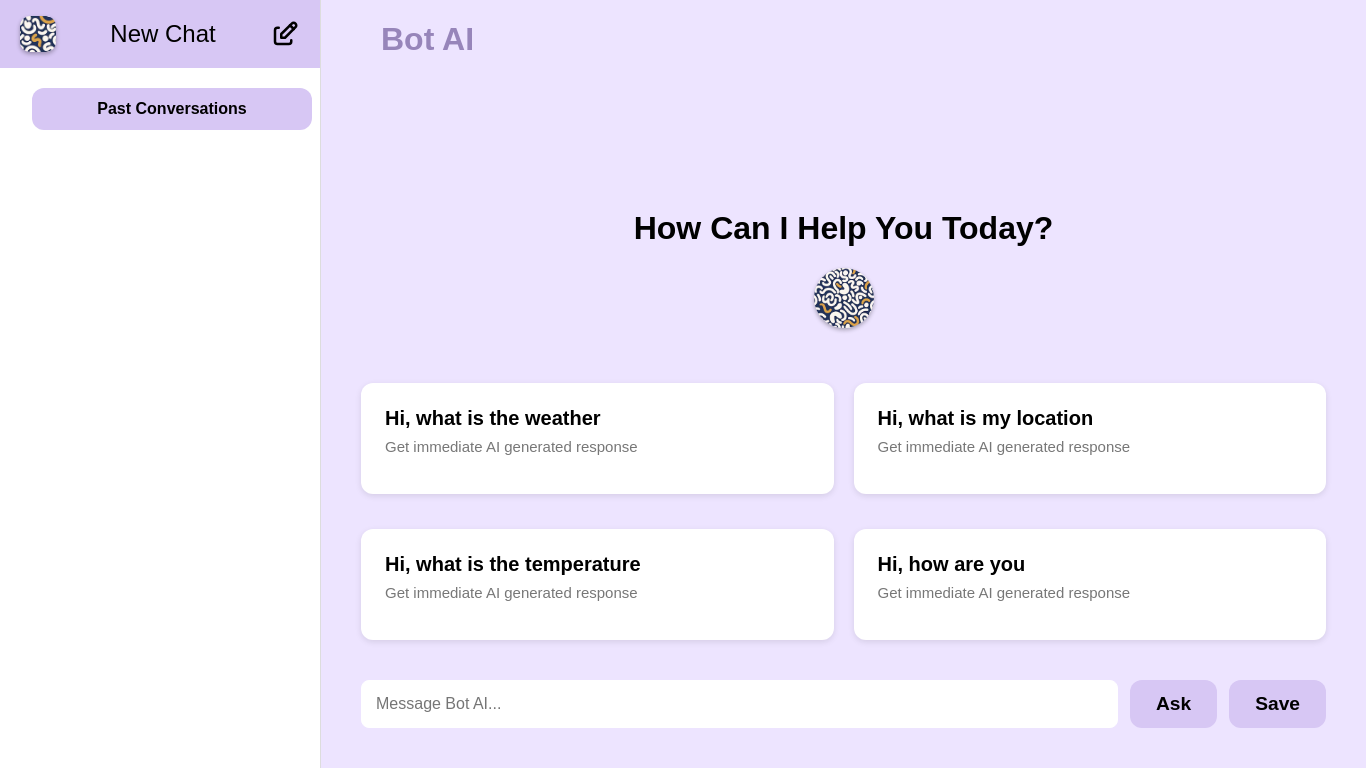
Bot AI Application › Should show a default message if the question is not present in the static JSON data
This screenshot has width=1366, height=768.
Type "What is the capital of Mars?" into the field with placeholder "Message Bot AI...". click: (740, 704)
box: [361,680,1118,728]
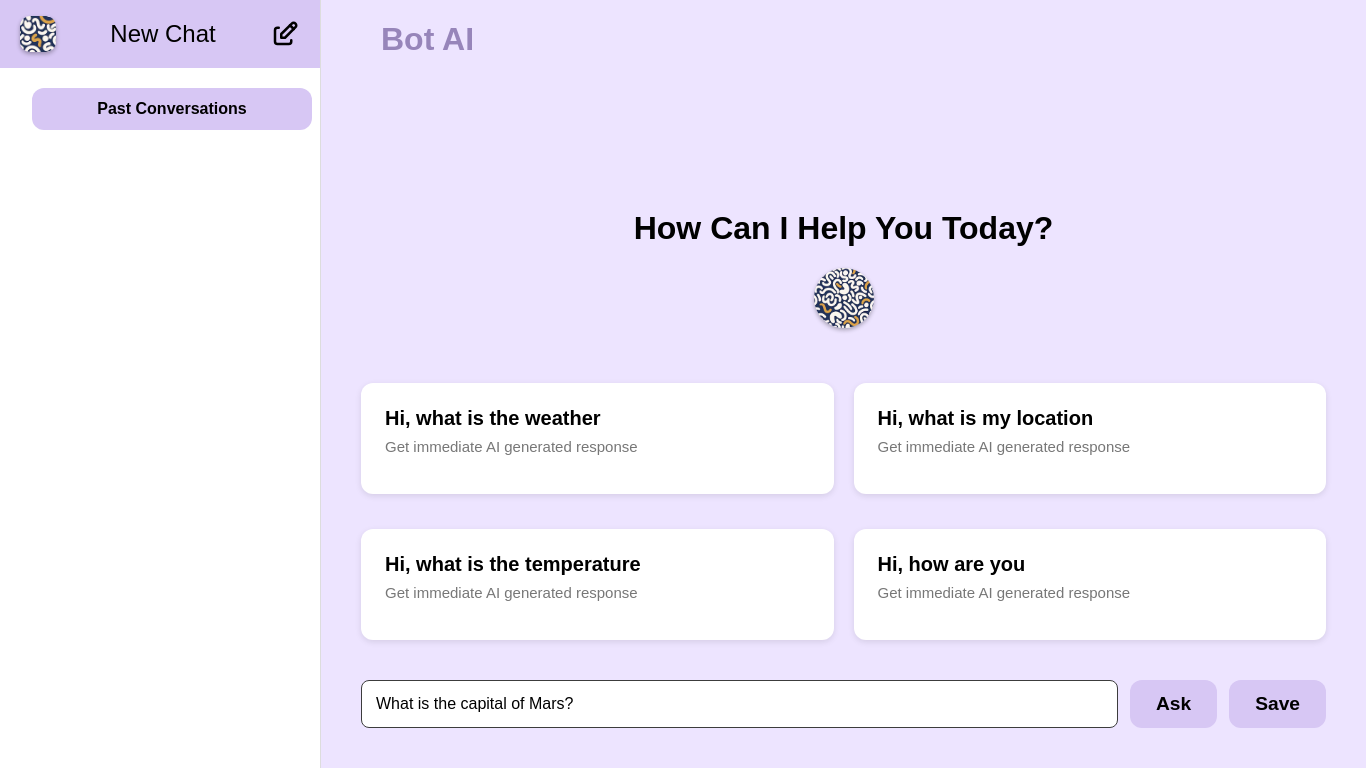
Click the submit button. click: (1174, 704)
box: [1130,680,1217,728]
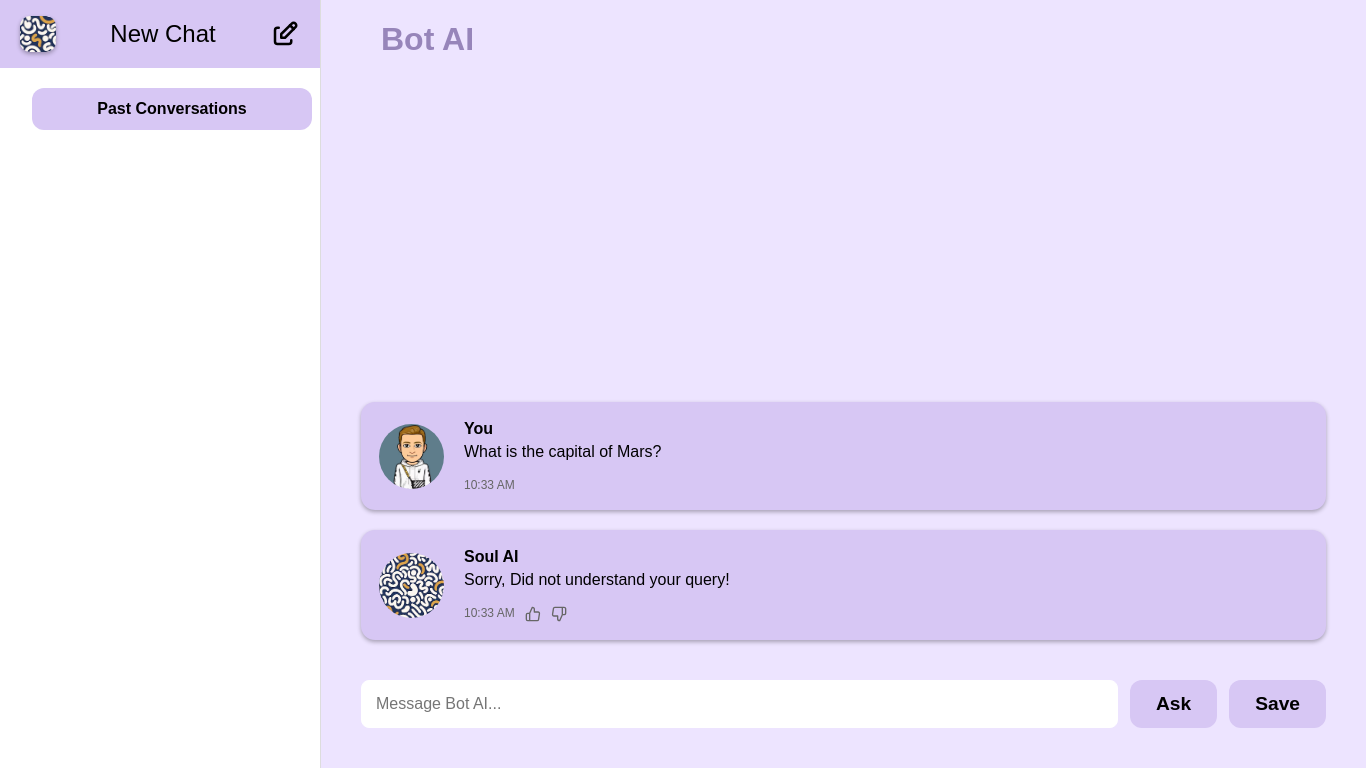
Now the text "Sorry, Did not understand your query!" is shown, box [464,571,730,589]
